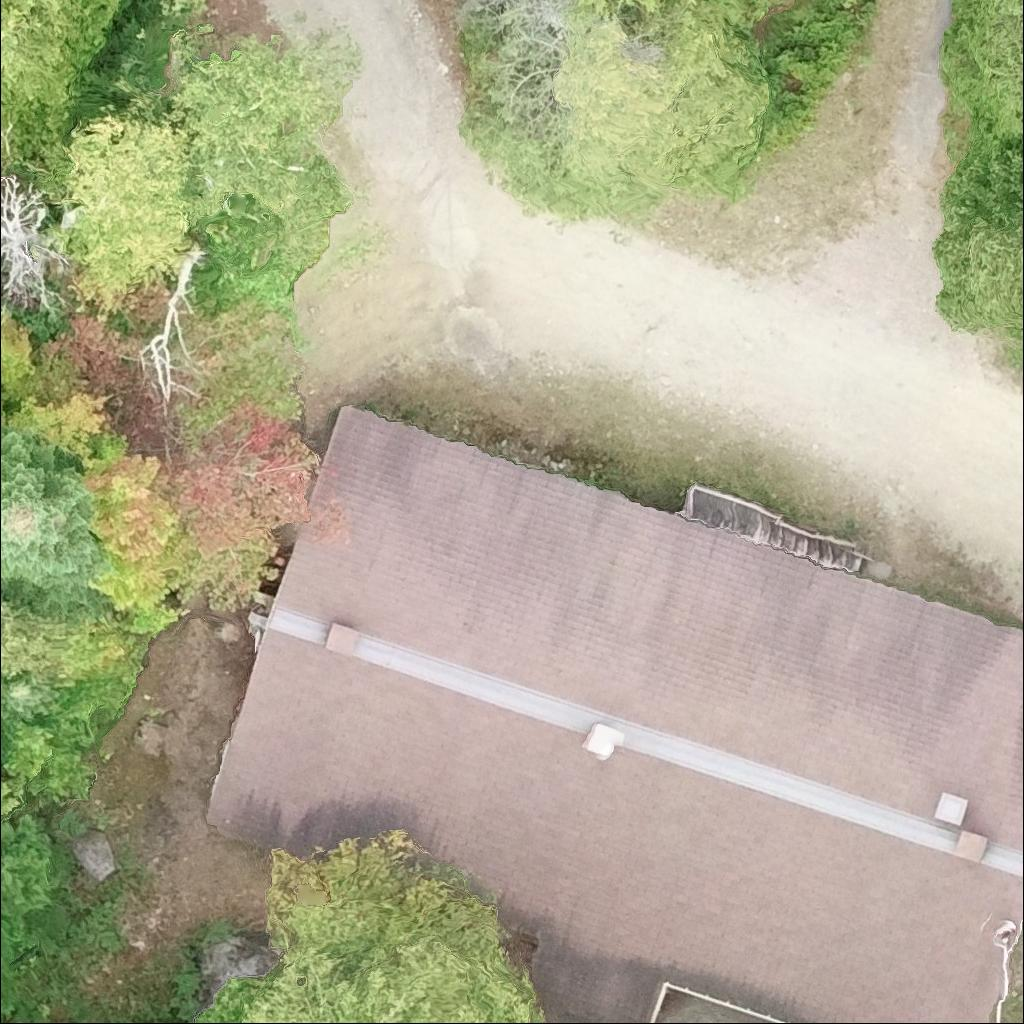crown: (241, 831, 535, 1023), (160, 35, 350, 273), (558, 0, 763, 187), (148, 403, 315, 609), (64, 111, 198, 313), (0, 424, 104, 616), (931, 137, 1023, 343), (81, 449, 178, 634), (0, 0, 116, 136), (947, 0, 1023, 152), (138, 230, 204, 404), (188, 220, 298, 318), (0, 173, 72, 317), (0, 597, 71, 677), (0, 676, 56, 724), (0, 923, 18, 1014), (722, 0, 781, 20), (626, 0, 666, 13), (576, 0, 604, 10), (123, 0, 130, 4)
